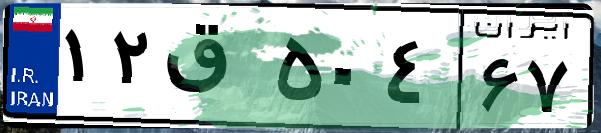0: (330, 28, 385, 110)
1: (57, 26, 110, 100)
2: (110, 28, 158, 98)
4: (385, 28, 445, 110)
5: (270, 28, 330, 110)
6: (475, 38, 525, 113)
7: (525, 38, 570, 115)
ق: (158, 20, 270, 120)
